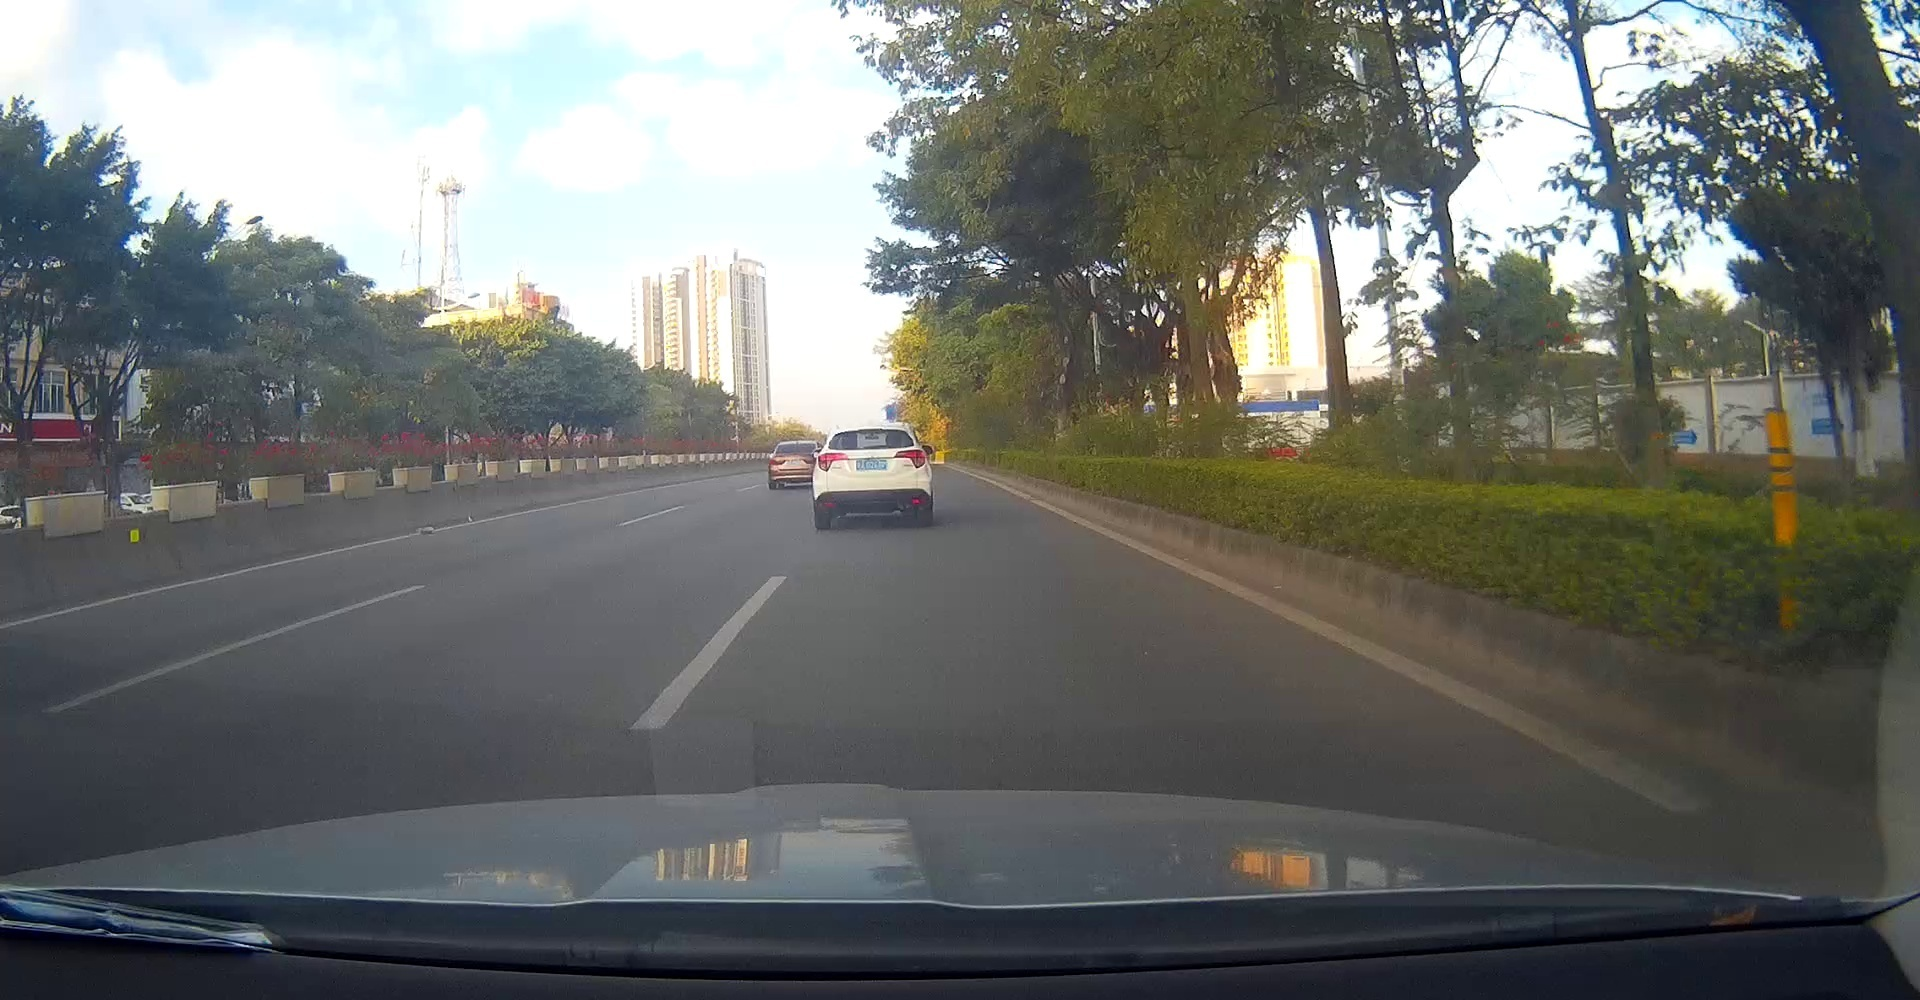L_light: (817, 453, 850, 472)
R_light: (894, 451, 927, 470), (855, 459, 888, 472)
T_light: (858, 428, 883, 431)
day-no: (811, 426, 932, 530)
